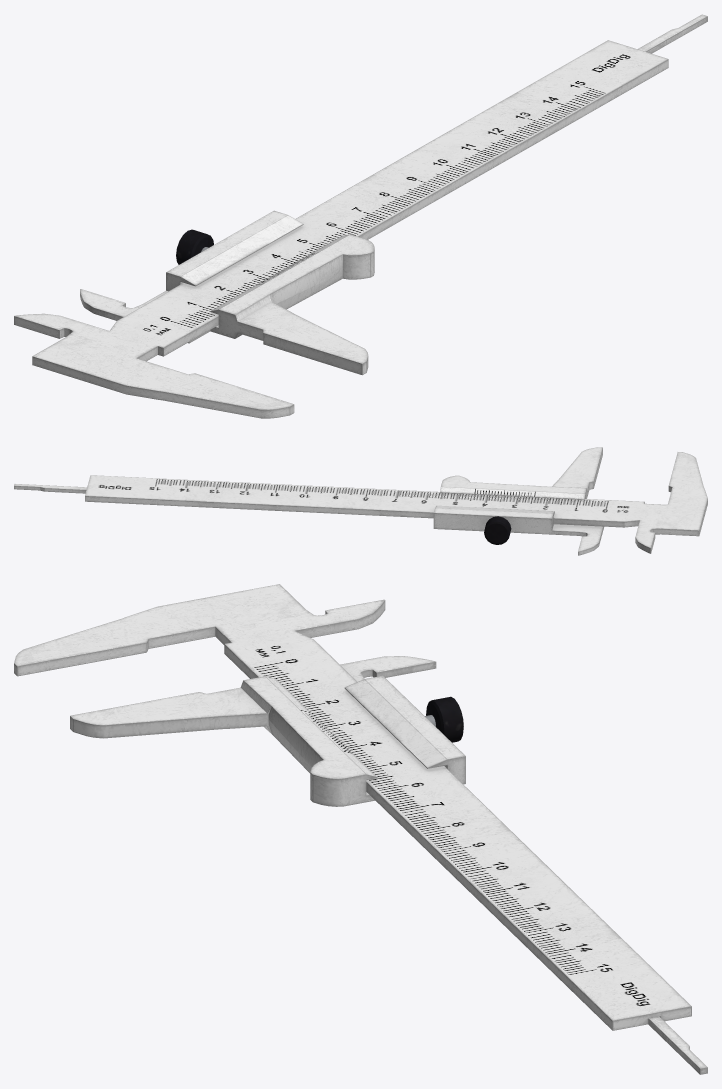
The model's file is shtangel.fbx.
The picture shows the model from 3 angles, top to bottom: view 1: azimuth 30°, elevation 25°; view 2: azimuth 150°, elevation 25°; view 3: azimuth 270°, elevation 25°; orthographic projection. The views are drawn at different scales.
Parts seen in each view (by area): view 1: shang.002, shang.001, shang; view 2: shang.002, shang.001, shang; view 3: shang.002, shang.001, shang.
Part boxes in pixels (bbox=[...]): shang.002: bbox=[14, 40, 668, 418]; shang.001: bbox=[80, 14, 707, 375]; shang: bbox=[176, 229, 213, 264]; shang.002: bbox=[85, 452, 707, 553]; shang.001: bbox=[14, 447, 603, 555]; shang: bbox=[484, 516, 511, 544]; shang.002: bbox=[14, 584, 691, 1030]; shang.001: bbox=[70, 656, 707, 1074]; shang: bbox=[425, 696, 463, 742].
Bounding box in the file's own units: 21.39 × 0.8582 × 13.07.
